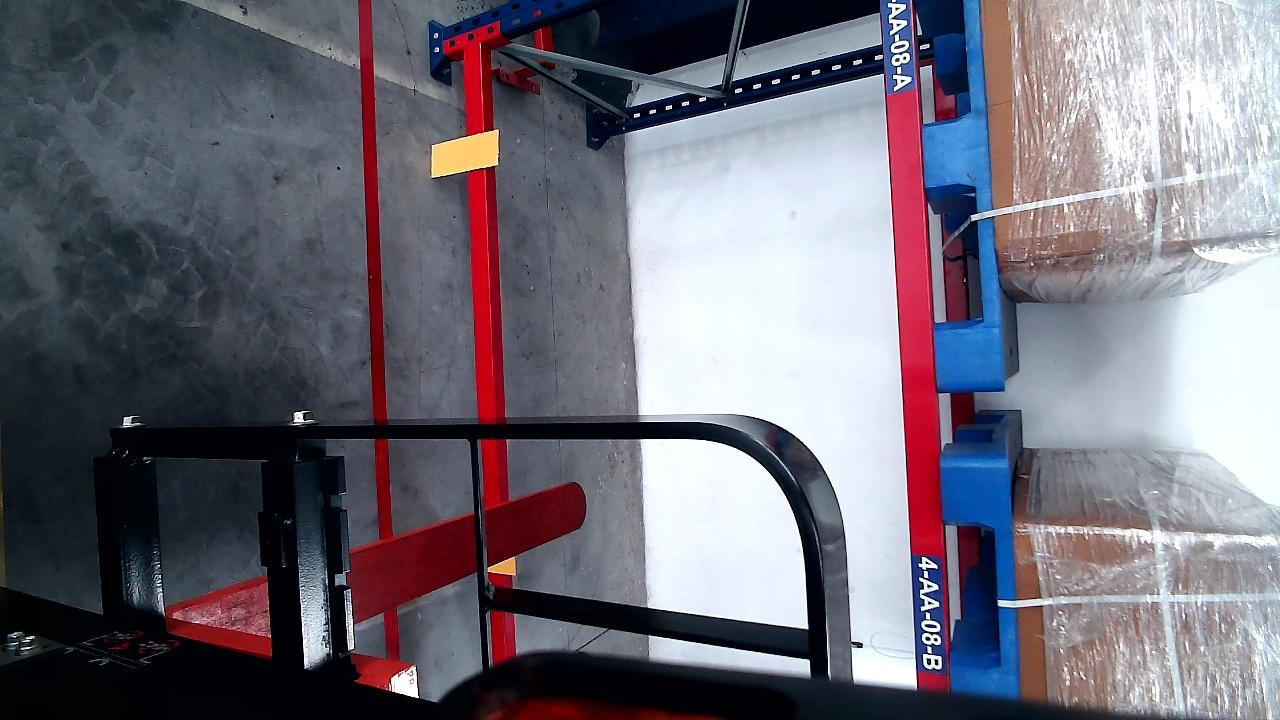red_line: (359, 1, 394, 543)
